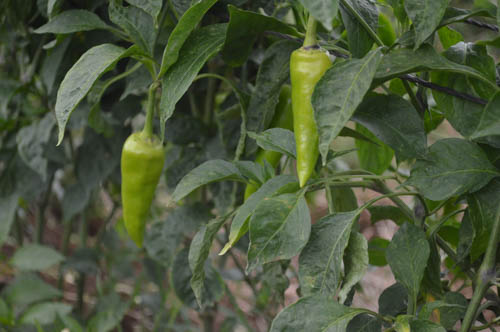ChiliPepper: (289, 49, 334, 191), (246, 86, 290, 206), (120, 135, 161, 247)
